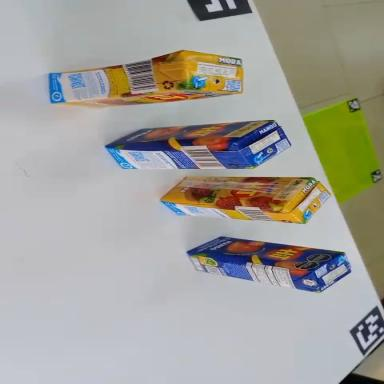HIT-MANGO: (185, 230, 353, 297), (106, 119, 291, 174)
HIT-MORA: (46, 44, 244, 114), (161, 176, 329, 224)
cara_F: (186, 232, 344, 276), (55, 83, 241, 113), (161, 175, 313, 209), (106, 121, 276, 147)
